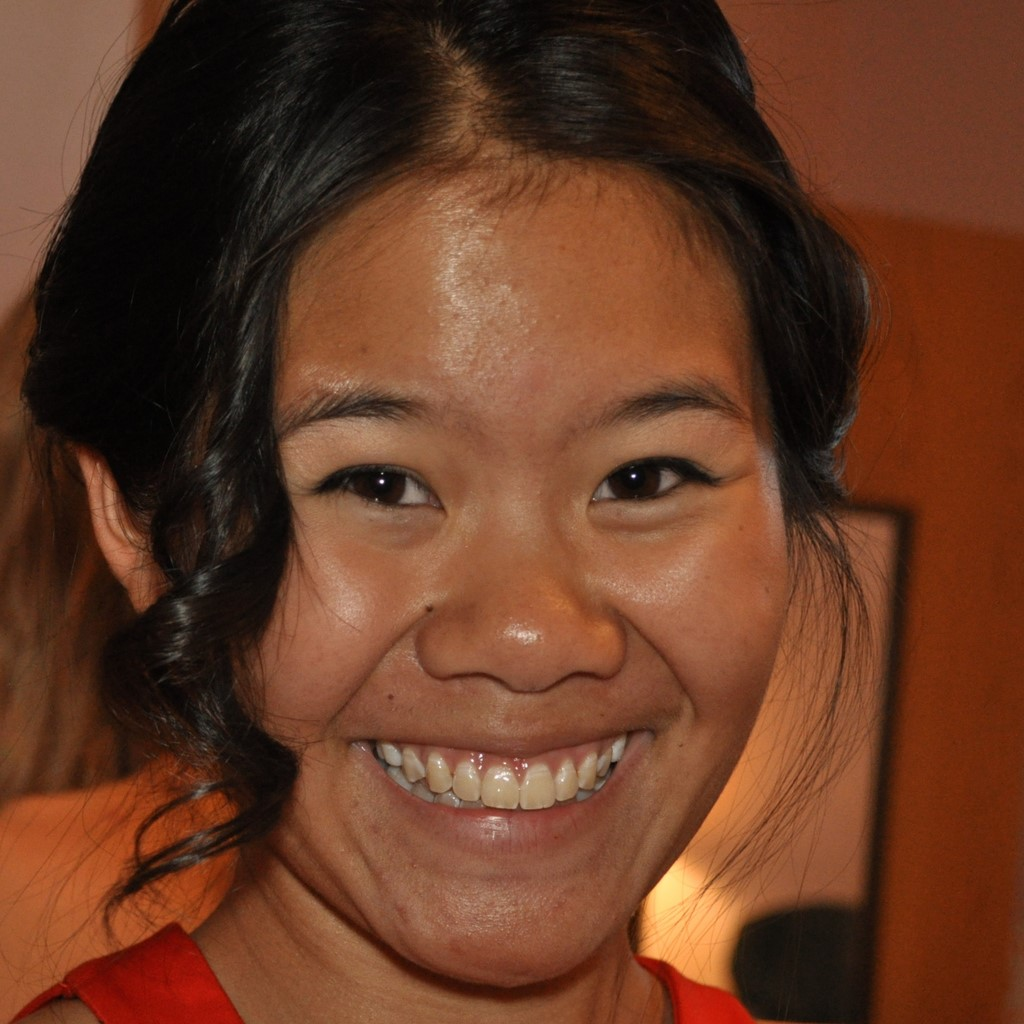sin_mascara: (77, 64, 810, 993)
